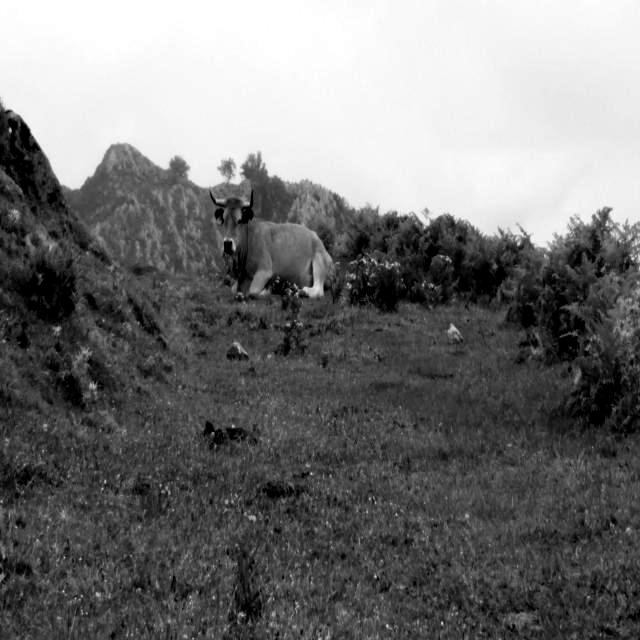COW: (210, 191, 336, 298)
